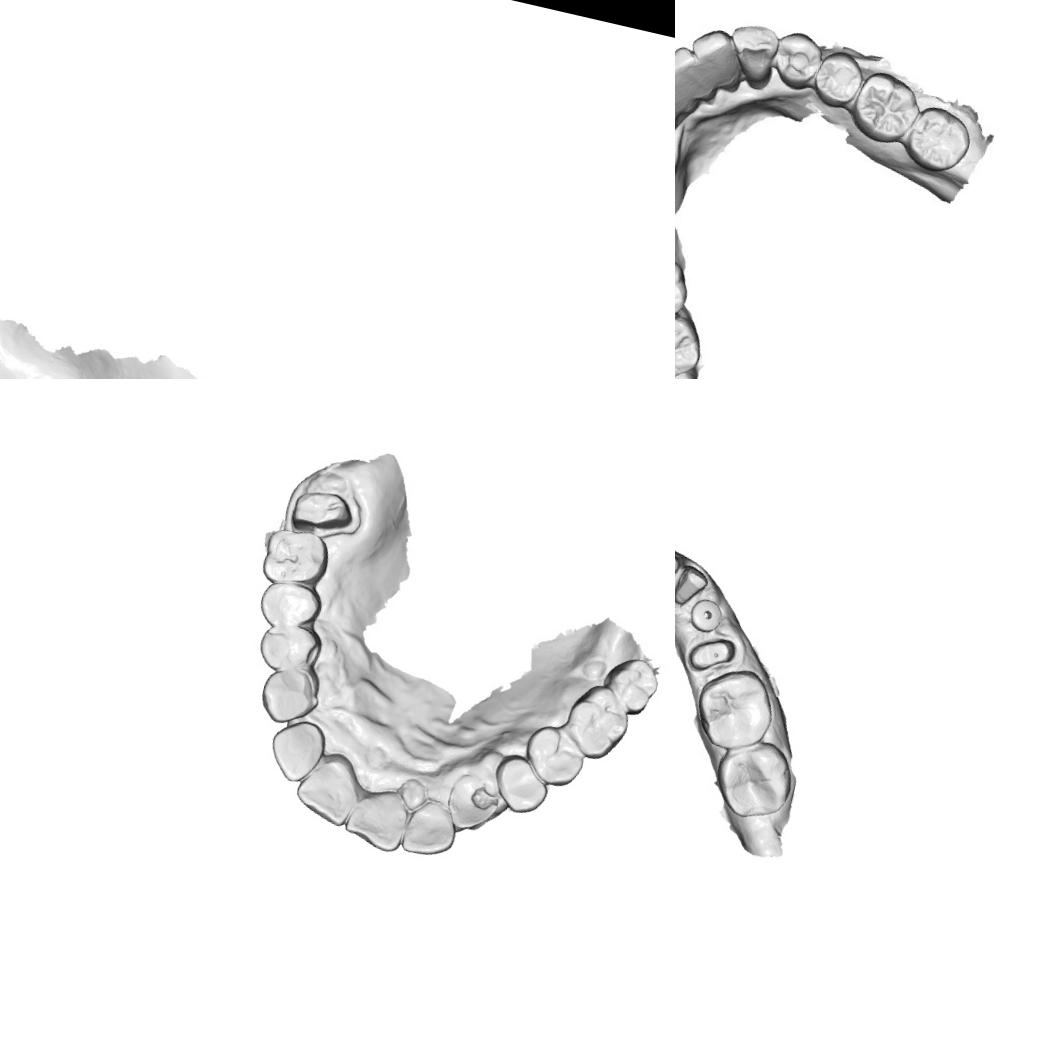canine: (253, 662, 324, 730), (722, 15, 781, 94), (441, 770, 506, 837)
crown: (284, 481, 366, 545), (684, 628, 740, 681), (675, 561, 712, 614)
implant: (686, 594, 728, 637)
incisor: (290, 745, 368, 829), (340, 781, 413, 856), (263, 714, 330, 788), (688, 28, 754, 96), (399, 794, 462, 862), (675, 45, 724, 108), (675, 68, 707, 126)
molar: (702, 730, 800, 826), (688, 660, 782, 759), (558, 678, 637, 766), (898, 101, 980, 178), (850, 66, 924, 145), (258, 522, 334, 593), (598, 652, 664, 720), (675, 306, 709, 379)
premolar: (518, 720, 590, 793), (487, 750, 555, 820), (253, 616, 326, 678), (769, 23, 830, 94), (254, 576, 326, 636), (812, 48, 868, 112)
